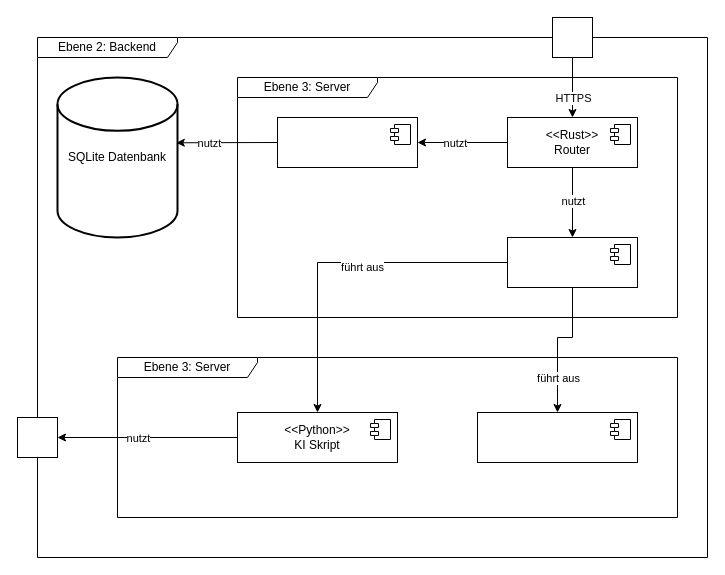
Image size: 725x575. Some labels were removed from this diagram. Here are the shapes that lost their labels. From the top down, the centre of each, then its label:
At point 347,142: "<<Rust>> SQLite Engine".
At point 572,262: "<<Rust>> Pythonrunner".
At point 557,437: "<<Python>> Kontext Generator".
